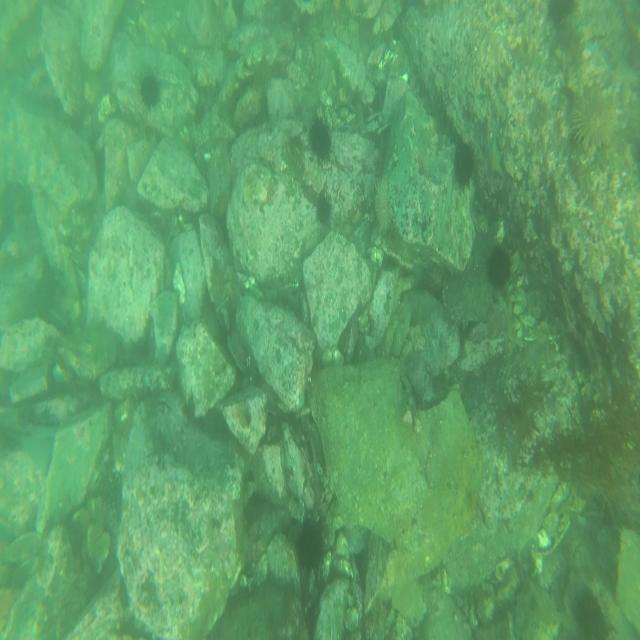echinus: (574, 85, 621, 155), (570, 583, 612, 637), (297, 514, 327, 570), (306, 112, 338, 164), (135, 69, 165, 113), (371, 177, 393, 234), (454, 139, 478, 191), (485, 241, 511, 282), (314, 193, 335, 226)
